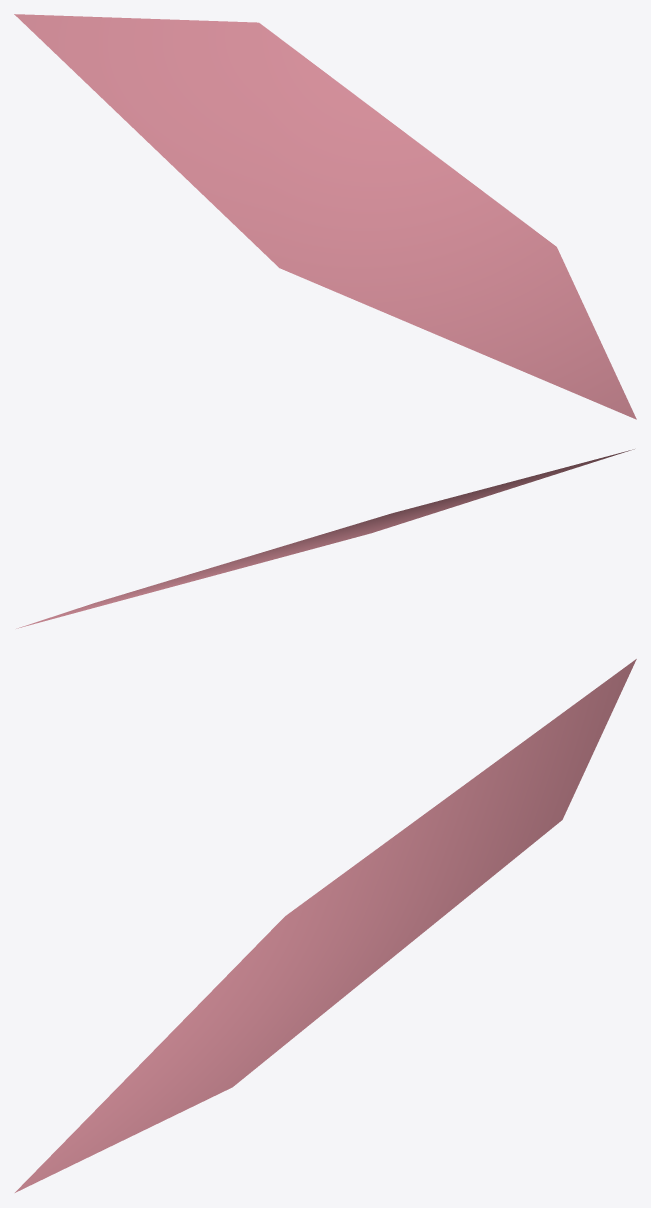
The model's file is canonical-component-07-lower.glb.
3 views of the same model, one above another, from view 1: azimuth 30°, elevation 25°; view 2: azimuth 210°, elevation 25°; view 3: azimuth 270°, elevation 25° (orthographic). The views are drawn at different scales.
Parts seen in each view (by area): view 1: canonical-component-07-lower; view 2: canonical-component-07-lower; view 3: canonical-component-07-lower.
Boxes of the visible parts, x1,y1,x2,y2 form: canonical-component-07-lower: [14, 14, 636, 419]; canonical-component-07-lower: [16, 449, 634, 628]; canonical-component-07-lower: [15, 659, 636, 1192].
Size of the model in its own units: 0.0119 by 0.00907 by 0.0152.
